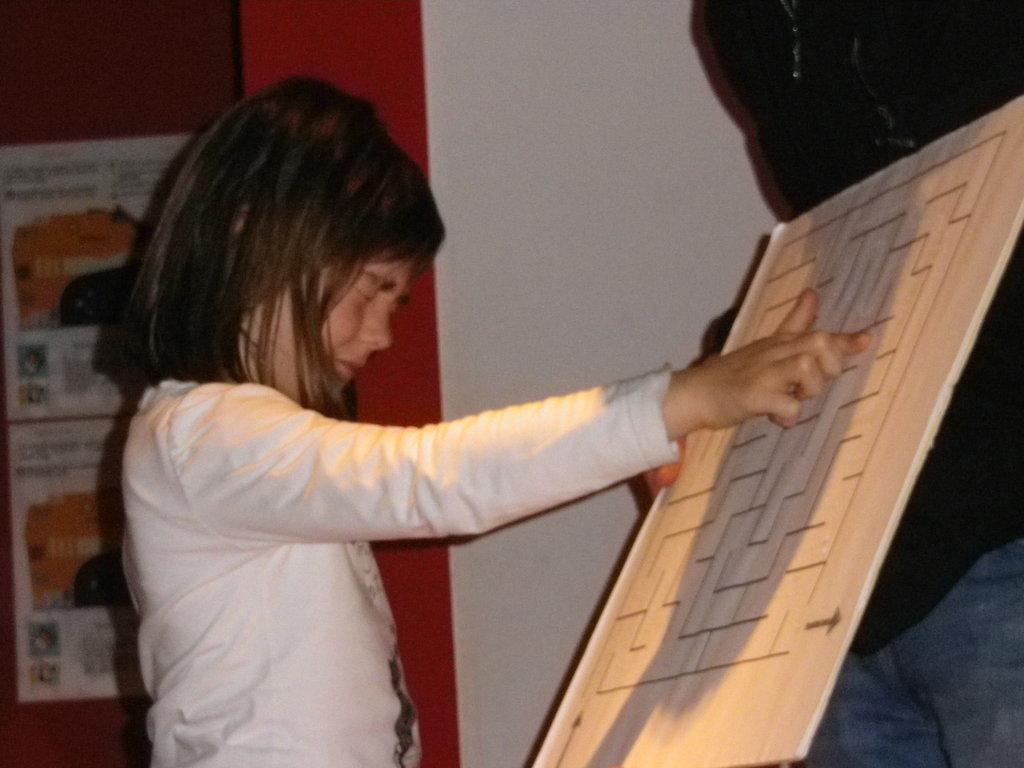Human_hand: (689, 291, 872, 429)
